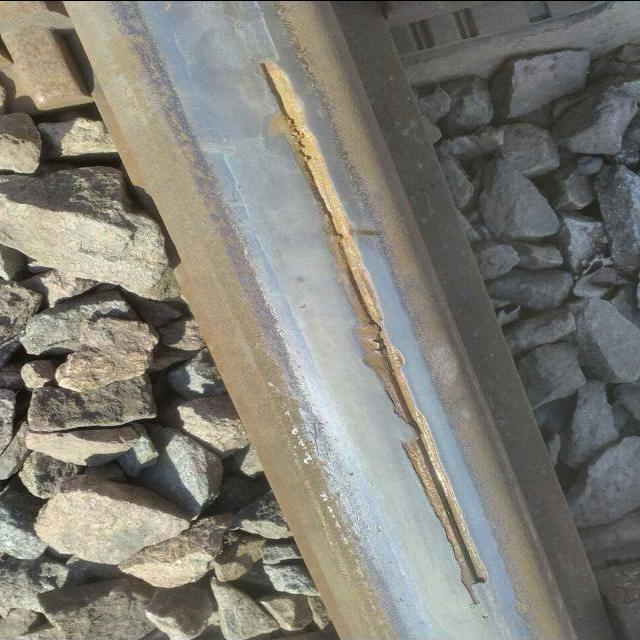broken_rail_medium: (257, 52, 497, 614)
